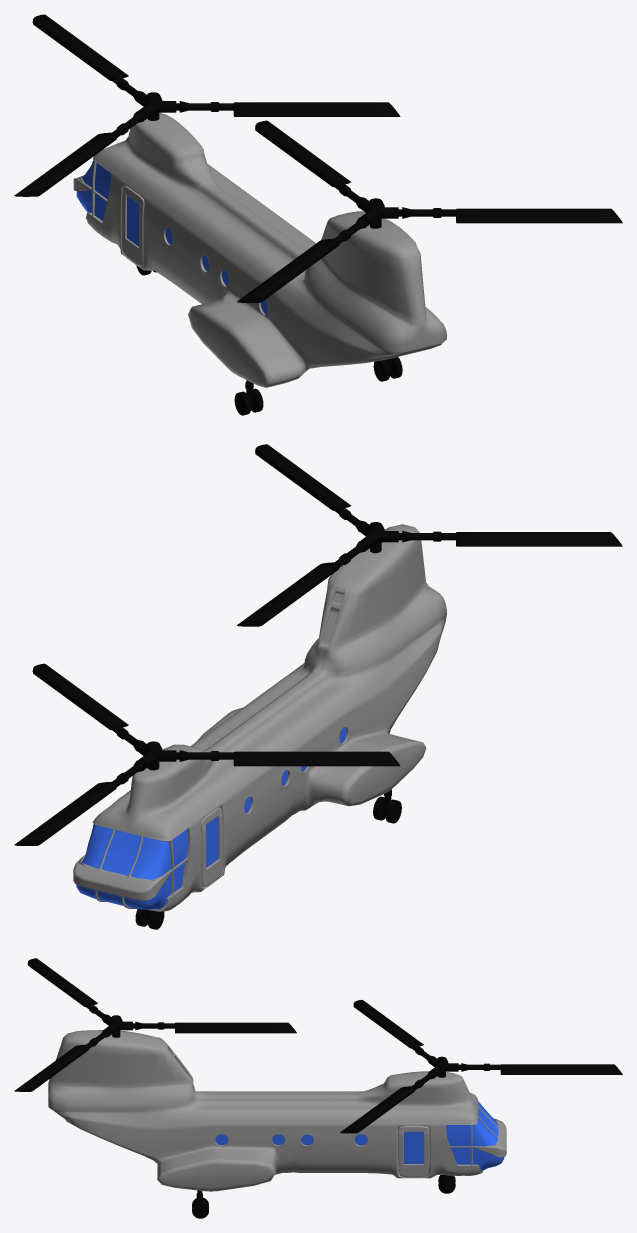
Rendered from CH46 - Sea King Helicopter.FBX.
3 views of the same model, one above another, from view 1: azimuth 30°, elevation 25°; view 2: azimuth 150°, elevation 25°; view 3: azimuth 270°, elevation 25° (orthographic). The views are drawn at different scales.
Visible parts, largest first — view 1: Body, Cylinder006, Cylinder002, Front Glass; view 2: Body, Cylinder002, Cylinder006, Front Glass, Object005; view 3: Body, Cylinder006, Cylinder002, Front Glass, Object005, Plane009, Plane007.
Part boxes in pixels (x1,y1,x2,y2): Body: (86,112,446,387); Cylinder006: (237,120,622,302); Cylinder002: (14,14,400,196); Front Glass: (76,160,111,220); Body: (92,524,446,911); Cylinder002: (14,663,400,845); Cylinder006: (237,444,622,626); Front Glass: (76,824,188,909); Object005: (73,823,190,911); Body: (48,1030,482,1191); Cylinder006: (14,958,296,1091); Cylinder002: (340,1000,622,1133); Front Glass: (446,1101,504,1170); Object005: (446,1099,506,1172); Plane009: (404,1132,423,1163); Plane007: (215,1134,367,1145).
Size of the model in its own units: 9.46 by 18.36 by 5.77.
